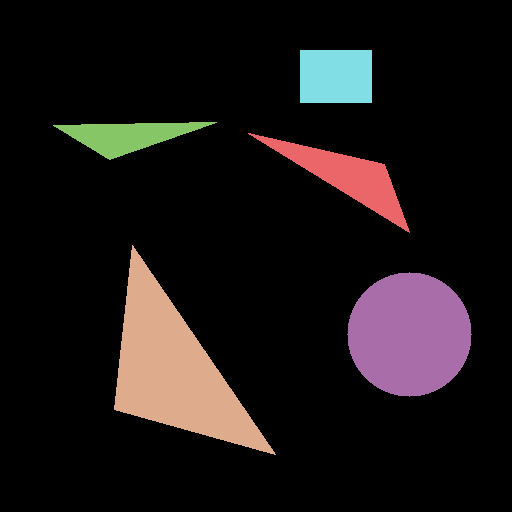circle: (347, 272, 471, 396)
rectangle: (300, 50, 371, 102)
triangle: (114, 245, 275, 454), (248, 133, 409, 232), (53, 122, 216, 159)
